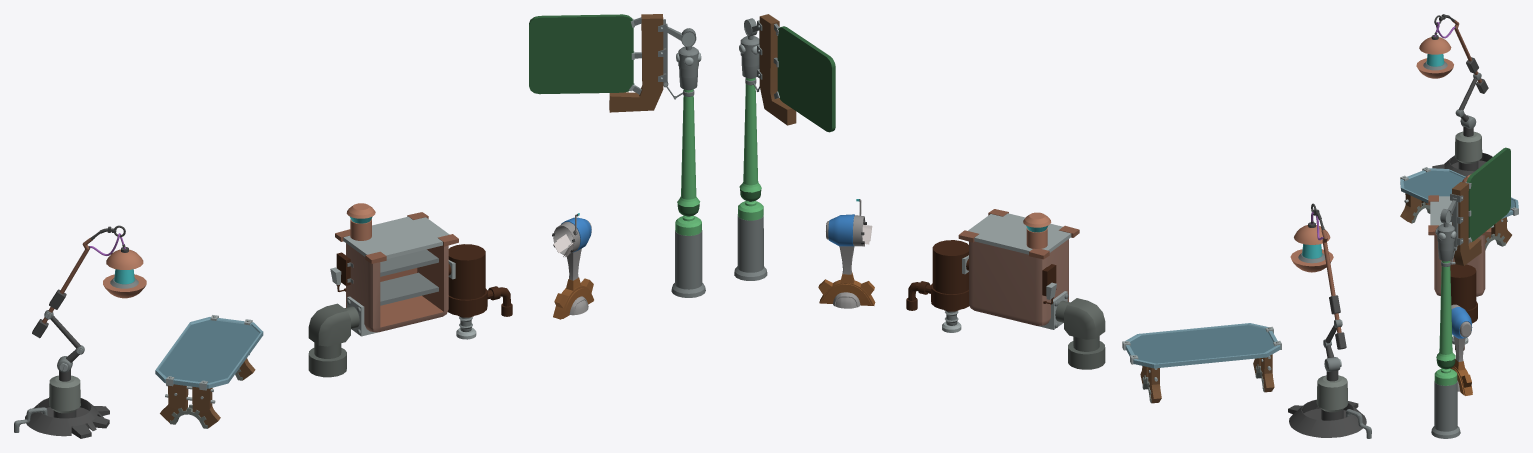
File: painting.fbx
The picture shows the model from 3 angles, left to right: view 1: azimuth 30°, elevation 25°; view 2: azimuth 150°, elevation 25°; view 3: azimuth 270°, elevation 25°; orthographic projection. The views are drawn at different scales.
Parts seen in each view (by area): view 1: polySurface319, polySurface384, polySurface260, polySurface230, polySurface356, polySurface400, polySurface378, polySurface374; view 2: polySurface319, polySurface260, polySurface230, polySurface384, polySurface356, polySurface400, polySurface378, polySurface374; view 3: polySurface230, polySurface319, polySurface384, polySurface260, polySurface378, polySurface356, polySurface374, polySurface400, polySurface377, polySurface380, polySurface381, polySurface397 (+2 smaller).
Boxes of the visible parts, bbox=[...] form: polySurface319: bbox=[308, 203, 512, 377]; polySurface384: bbox=[529, 14, 633, 94]; polySurface260: bbox=[155, 315, 263, 428]; polySurface230: bbox=[14, 225, 146, 438]; polySurface356: bbox=[552, 213, 593, 319]; polySurface400: bbox=[609, 14, 663, 112]; polySurface378: bbox=[671, 230, 705, 297]; polySurface374: bbox=[677, 89, 700, 206]; polySurface319: bbox=[906, 209, 1105, 369]; polySurface260: bbox=[1122, 323, 1281, 403]; polySurface230: bbox=[1288, 203, 1371, 438]; polySurface384: bbox=[777, 26, 835, 132]; polySurface356: bbox=[818, 199, 875, 308]; polySurface400: bbox=[759, 14, 796, 125]; polySurface378: bbox=[734, 214, 767, 280]; polySurface374: bbox=[739, 78, 761, 192]; polySurface230: bbox=[1416, 14, 1492, 176]; polySurface319: bbox=[1428, 174, 1491, 350]; polySurface384: bbox=[1466, 147, 1510, 241]; polySurface260: bbox=[1400, 167, 1518, 250]; polySurface378: bbox=[1431, 381, 1460, 438]; polySurface356: bbox=[1450, 304, 1472, 395]; polySurface374: bbox=[1436, 260, 1455, 361]; polySurface400: bbox=[1452, 182, 1481, 265]; polySurface377: bbox=[1434, 368, 1457, 385]; polySurface380: bbox=[1438, 242, 1453, 261]; polySurface381: bbox=[1437, 224, 1454, 243]; polySurface397: bbox=[1452, 197, 1458, 247].
Bounding box in the file's own units: 26.29 × 10.36 × 4.73.
